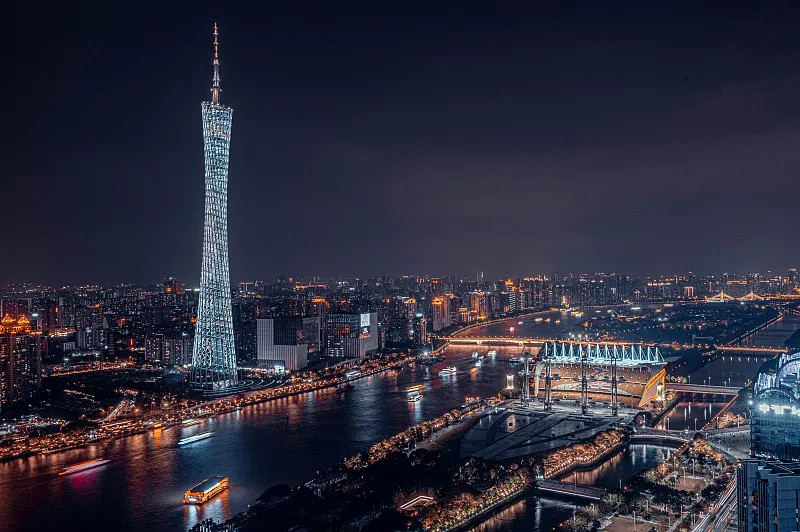Canton: (189, 21, 240, 386)
